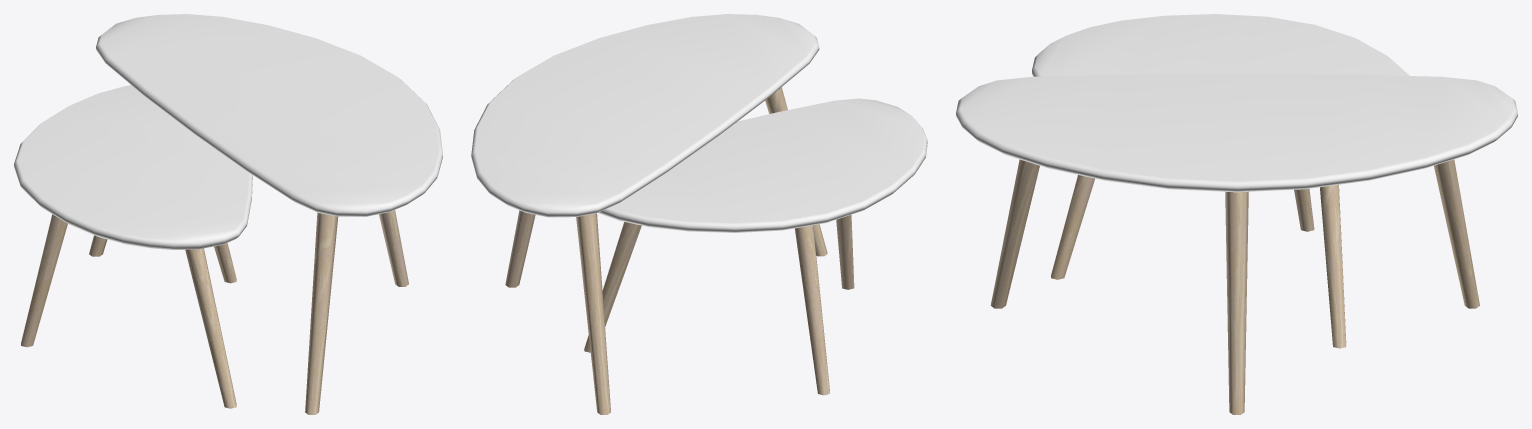
The model's file is coffee_table_005.fbx.
3 views of the same model, side by side, from view 1: azimuth 30°, elevation 25°; view 2: azimuth 150°, elevation 25°; view 3: azimuth 270°, elevation 25° (orthographic). The views are drawn at different scales.
Parts seen in each view (by area): view 1: coffee_table_005; view 2: coffee_table_005; view 3: coffee_table_005.
Part boxes in pixels (x1,y1,x2,y2): coffee_table_005: [14, 14, 442, 414]; coffee_table_005: [471, 14, 927, 414]; coffee_table_005: [956, 14, 1517, 414].
Size of the model in its own units: 128 by 151 by 67.58.
